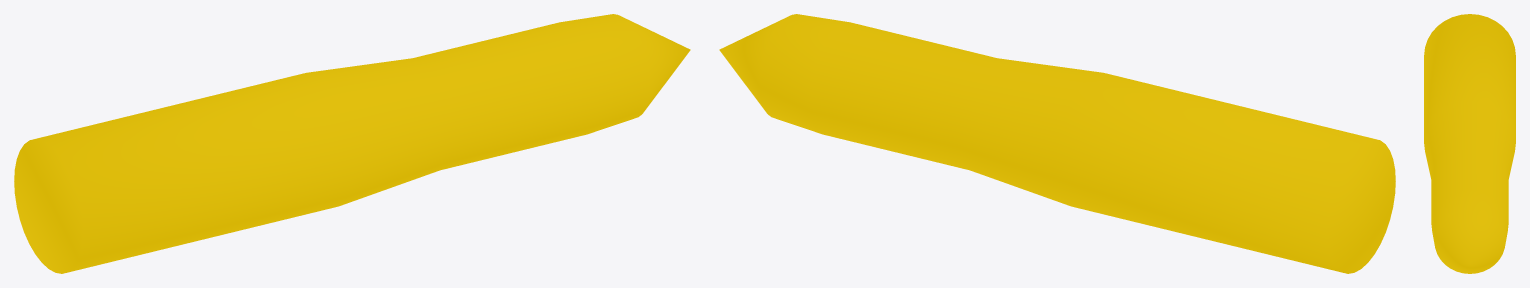
Rendered from shell.fbx.
3 renders of one model, left to right at view 1: azimuth 30°, elevation 25°; view 2: azimuth 150°, elevation 25°; view 3: azimuth 270°, elevation 25°, orthographic. The views are drawn at different scales.
Visible parts, largest first — view 1: Cylinder; view 2: Cylinder; view 3: Cylinder.
Part boxes in pixels (x1=…): Cylinder: x1=14, y1=14, x2=690, y2=273; Cylinder: x1=719, y1=14, x2=1395, y2=273; Cylinder: x1=1424, y1=14, x2=1515, y2=273.
Size of the model in its own units: 11.45 by 2.14 by 2.14.
